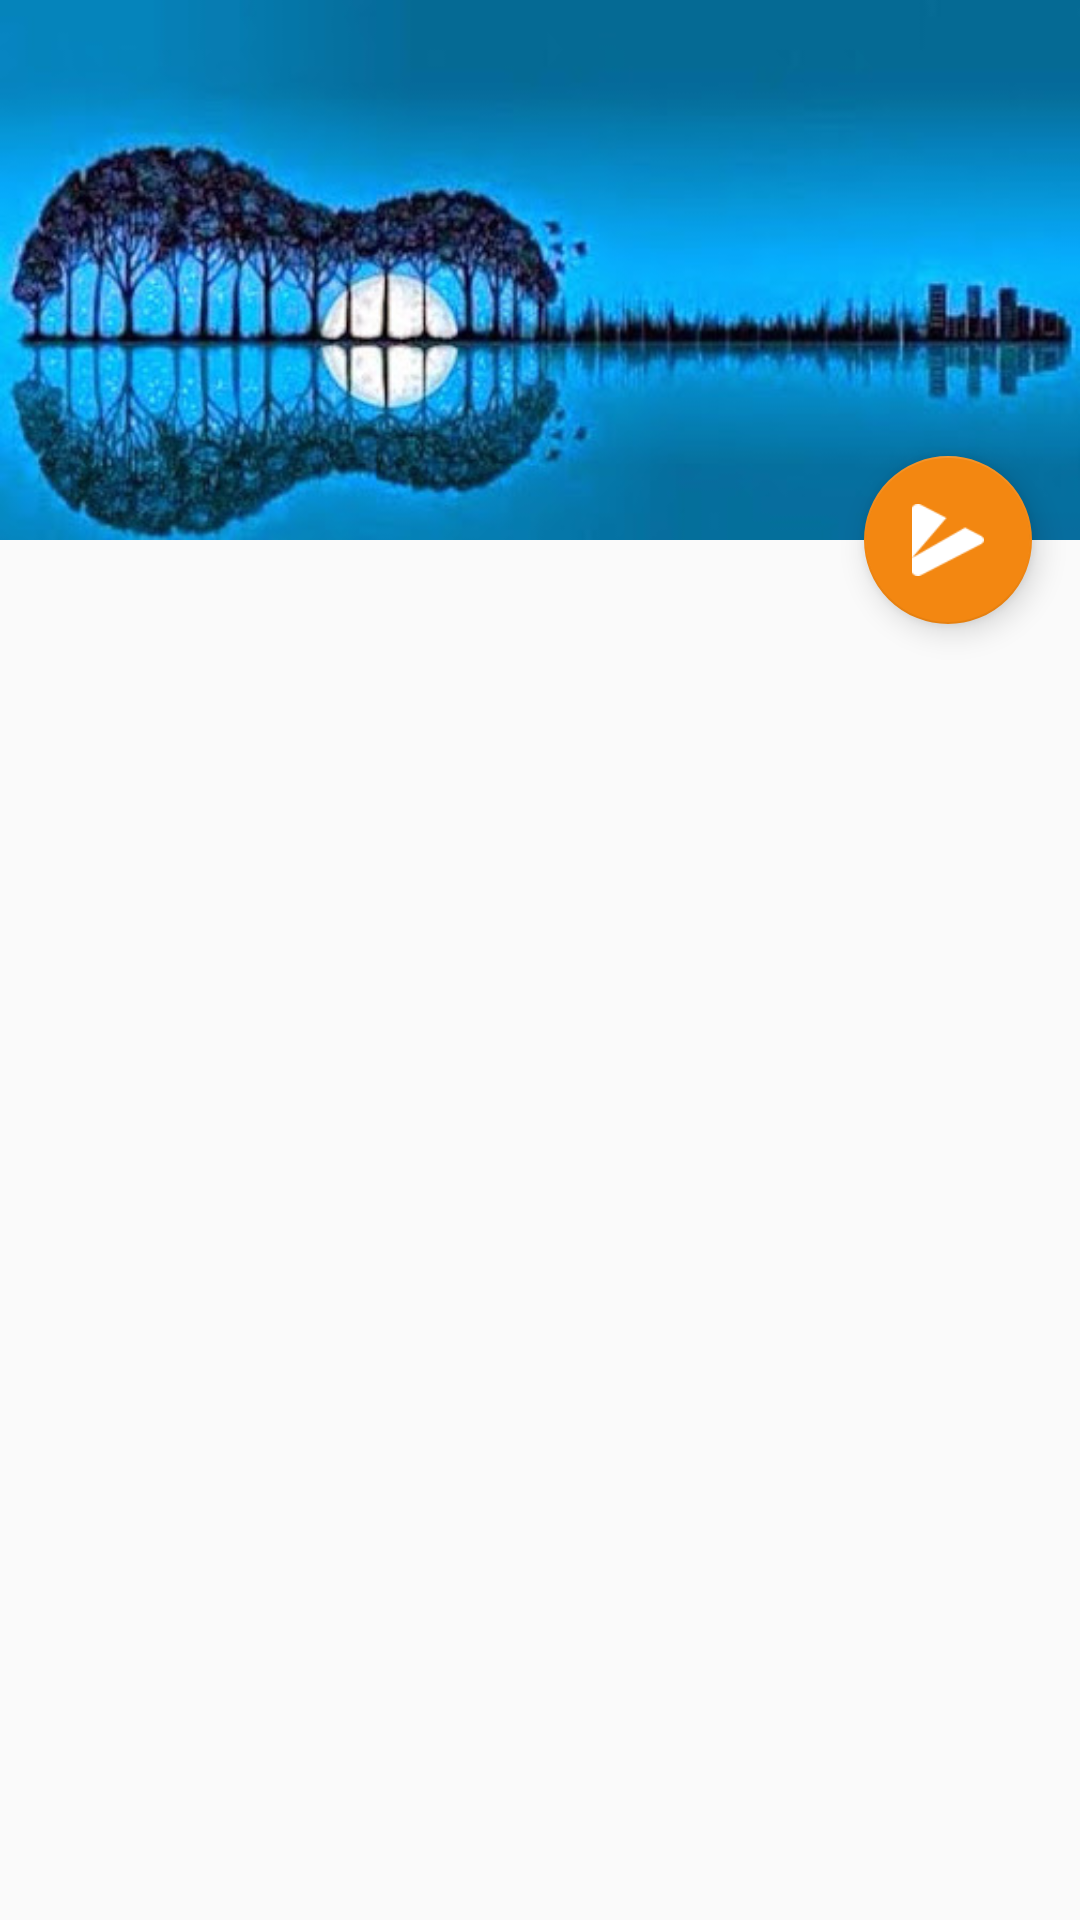

Icons on this 1080 × 1920 Android screen, each with the point to tap as (x,y):
play: (948,540)
